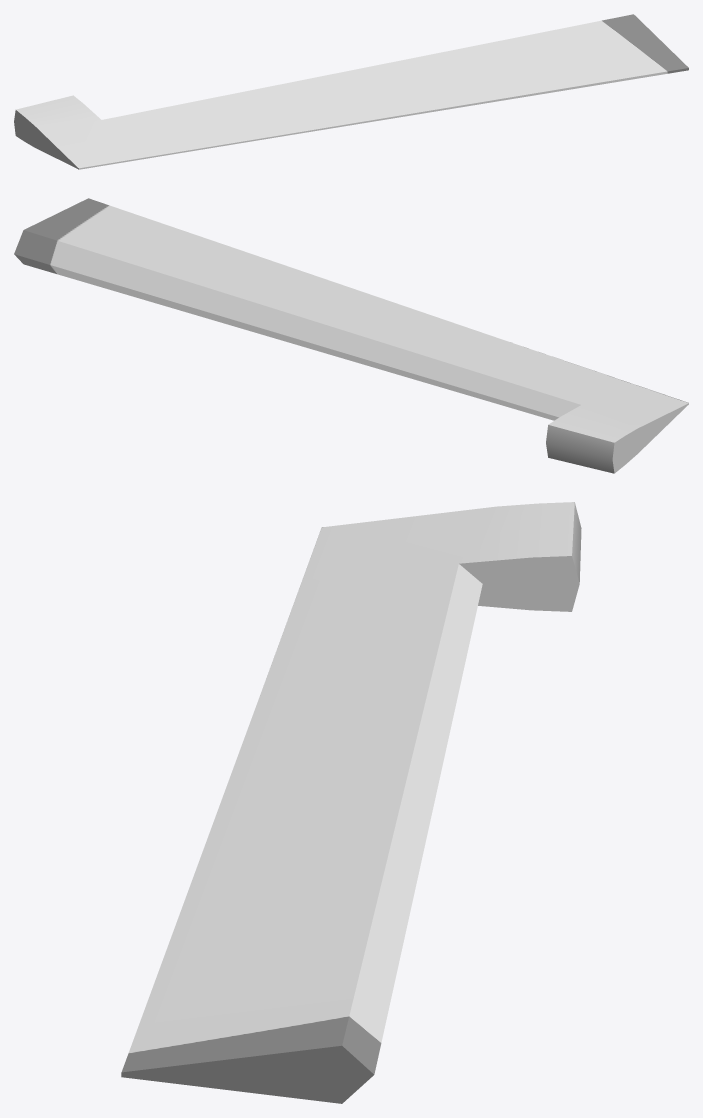
File: LeftAileron.glb
The picture shows the model from 3 angles, top to bottom: view 1: azimuth 30°, elevation 25°; view 2: azimuth 150°, elevation 25°; view 3: azimuth 270°, elevation 25°; orthographic projection. The views are drawn at different scales.
Visible parts, largest first — view 1: LeftAileron; view 2: LeftAileron; view 3: LeftAileron.
Part boxes in pixels (x1=…): LeftAileron: x1=14, y1=14, x2=688, y2=169; LeftAileron: x1=14, y1=198, x2=688, y2=473; LeftAileron: x1=121, y1=502, x2=581, y2=1103.
Size of the model in its own units: 0.8737 by 0.0434 by 0.3108.
Materials: 1 (1 with a texture image).
